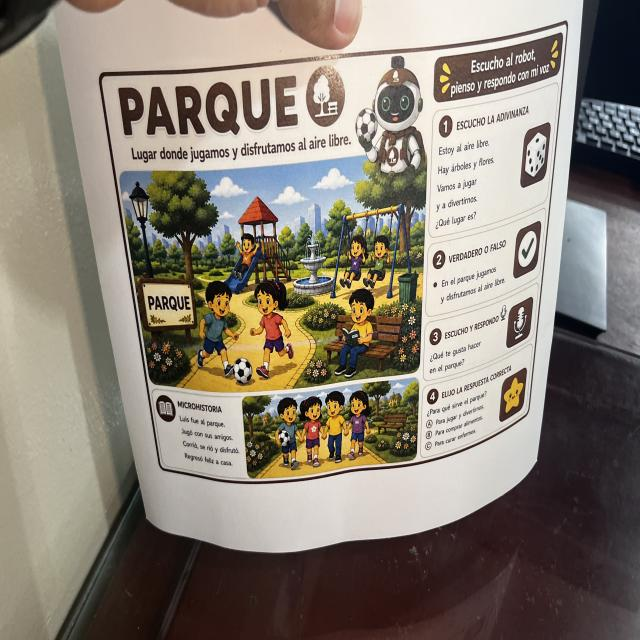parque: (96, 14, 572, 493)
